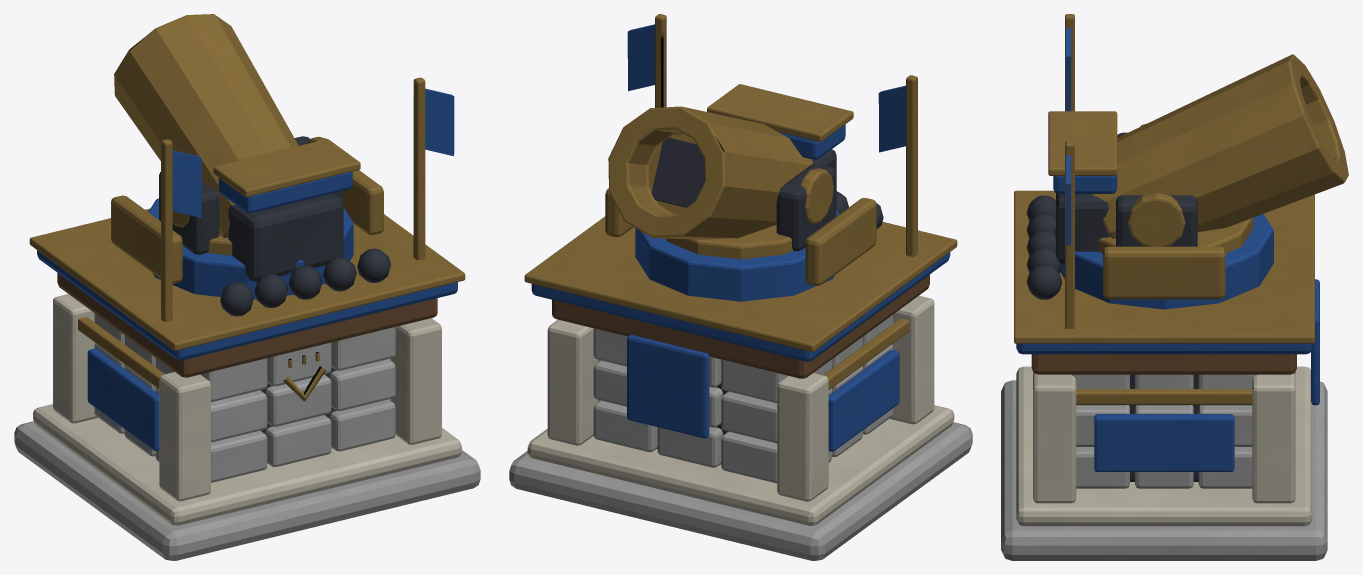
File: cannon_tower_high.glb
3 views of the same model, side by side, from view 1: azimuth 30°, elevation 25°; view 2: azimuth 150°, elevation 25°; view 3: azimuth 270°, elevation 25° (orthographic). The views are drawn at different scales.
Parts seen in each view (by area): view 1: cannon_tower_high_surface; view 2: cannon_tower_high_surface; view 3: cannon_tower_high_surface.
Boxes of the visible parts, x1,y1,x2,y2 form: cannon_tower_high_surface: (14,14,480,560); cannon_tower_high_surface: (509,14,972,560); cannon_tower_high_surface: (1001,14,1348,560).
Bounding box in the file's own units: 1.48 × 1.84 × 1.36.
Materials: 1 (1 with a texture image).
